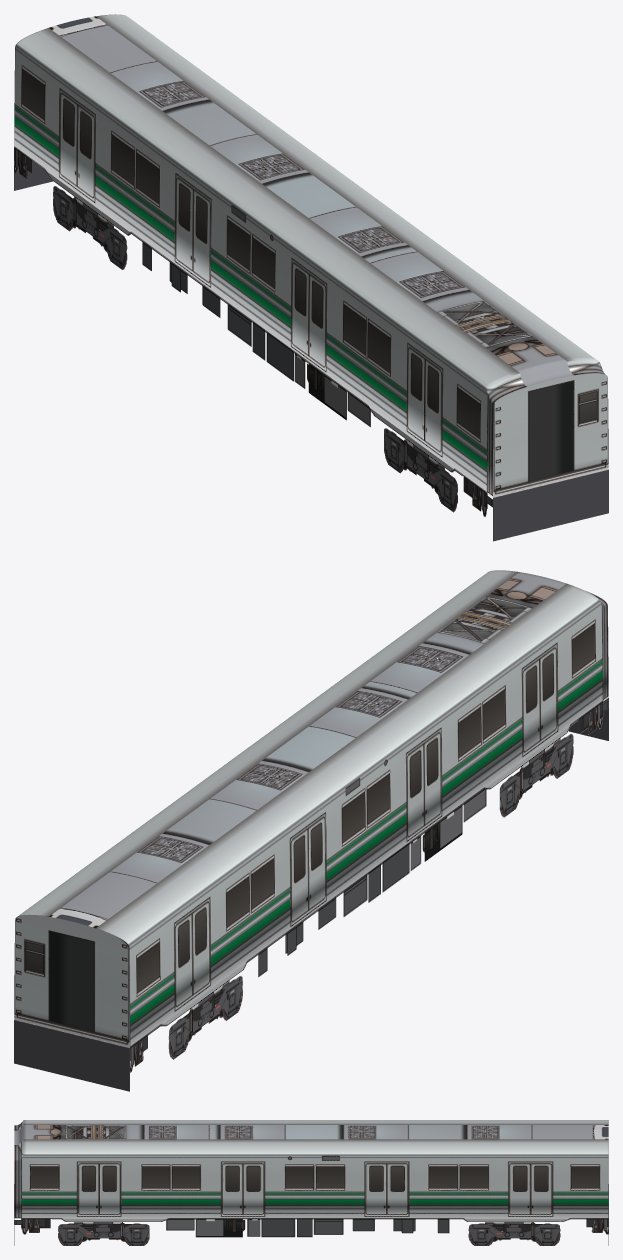
File: car2.glb
The picture shows the model from 3 angles, top to bottom: view 1: azimuth 30°, elevation 25°; view 2: azimuth 150°, elevation 25°; view 3: azimuth 270°, elevation 25°; orthographic projection. The views are drawn at different scales.
Parts seen in each view (by area): view 1: titibu-7500-car2; view 2: titibu-7500-car2; view 3: titibu-7500-car2.
Part boxes in pixels (left/top/right/bottom): titibu-7500-car2: left=14, top=14, right=608, bottom=541; titibu-7500-car2: left=14, top=570, right=608, bottom=1091; titibu-7500-car2: left=14, top=1120, right=608, bottom=1245.
Bounding box in the file's own units: 2.8 × 3.6 × 20.07.
6 materials, 5 textured.
